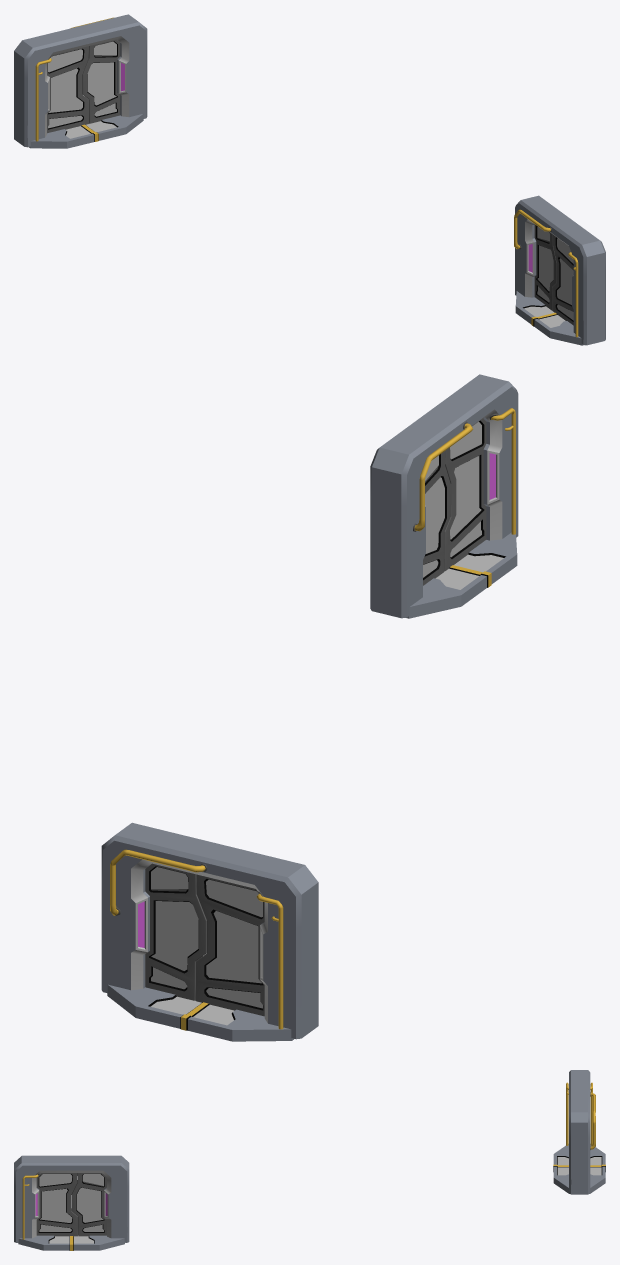
The model's file is Level22_Objects.fbx.
The picture shows the model from 3 angles, top to bottom: view 1: azimuth 30°, elevation 25°; view 2: azimuth 150°, elevation 25°; view 3: azimuth 270°, elevation 25°; orthographic projection. The views are drawn at different scales.
Visible parts, largest first — view 1: Base (×2), Right (×2), Left (×2), Base5 (×2); view 2: Base (×2), Right (×2), Left (×2), Base5 (×2), polySurface7, polySurface5; view 3: Base (×2), Base5 (×2), Right, Left.
Part boxes in pixels (<box>): Base (×2): <box>14,14,605,345</box>; Right (×2): <box>47,46,573,325</box>; Left (×2): <box>82,39,556,310</box>; Base5 (×2): <box>29,114,583,345</box>; Base (×2): <box>101,374,518,1039</box>; Right (×2): <box>195,418,486,1016</box>; Left (×2): <box>145,451,450,1000</box>; Base5 (×2): <box>107,532,517,1041</box>; polySurface7: <box>110,849,207,915</box>; polySurface5: <box>256,893,283,1029</box>; Base (×2): <box>14,1070,590,1242</box>; Base5 (×2): <box>18,1144,605,1250</box>; Right: <box>36,1173,77,1236</box>; Left: <box>71,1173,106,1236</box>.
Bounding box in the file's own units: 114 × 42.7 × 280.
